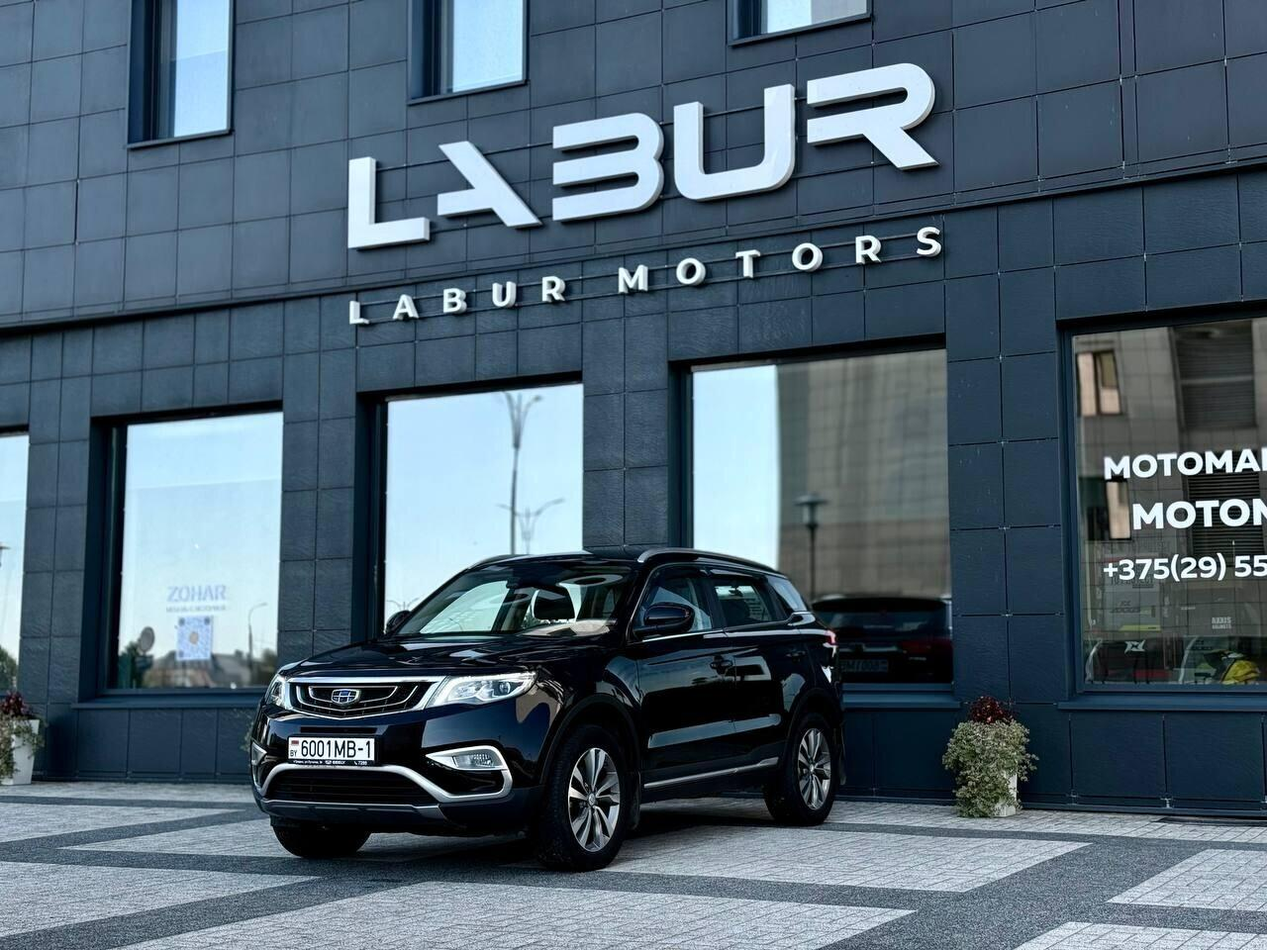Atlas_2016-2023: (244, 547, 846, 866)
